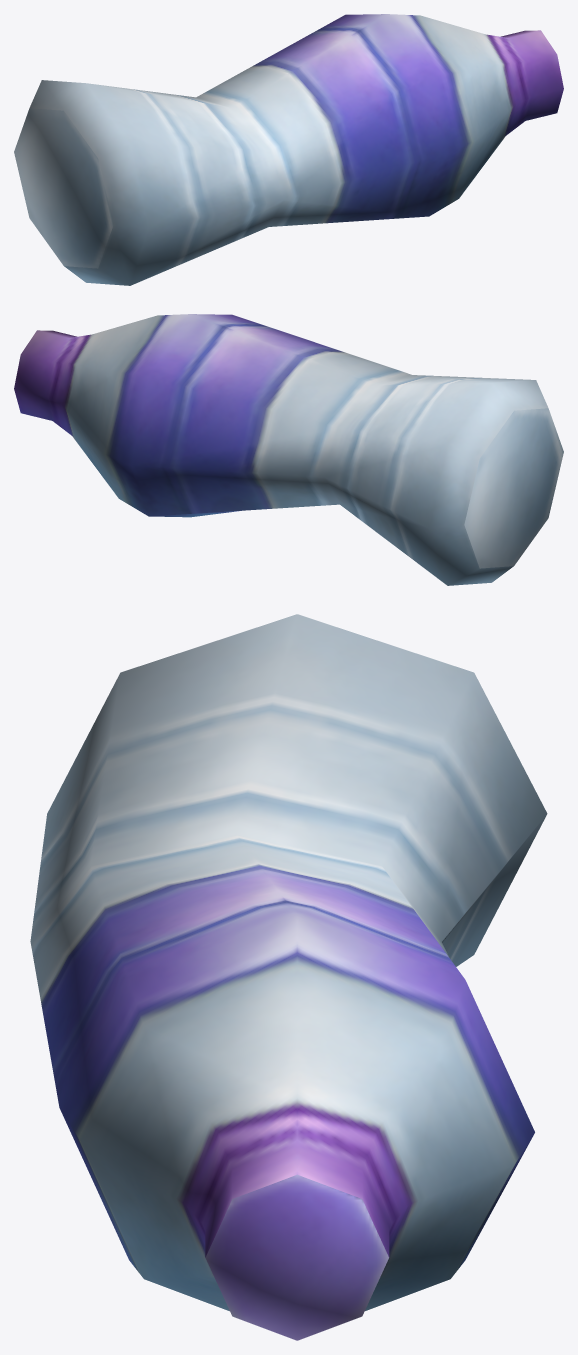
The model's file is 3D_recycle_trash_plastic02.FBX.
The picture shows the model from 3 angles, top to bottom: view 1: azimuth 30°, elevation 25°; view 2: azimuth 150°, elevation 25°; view 3: azimuth 270°, elevation 25°; orthographic projection. The views are drawn at different scales.
Visible parts, largest first — view 1: 3D_recycle_trash_plastic02; view 2: 3D_recycle_trash_plastic02; view 3: 3D_recycle_trash_plastic02.
Part boxes in pixels (x1=…): 3D_recycle_trash_plastic02: x1=14, y1=14, x2=563, y2=285; 3D_recycle_trash_plastic02: x1=14, y1=314, x2=563, y2=585; 3D_recycle_trash_plastic02: x1=30, y1=614, x2=547, y2=1340.
Bounding box in the file's own units: 0.5458 × 0.2269 × 0.2561.
